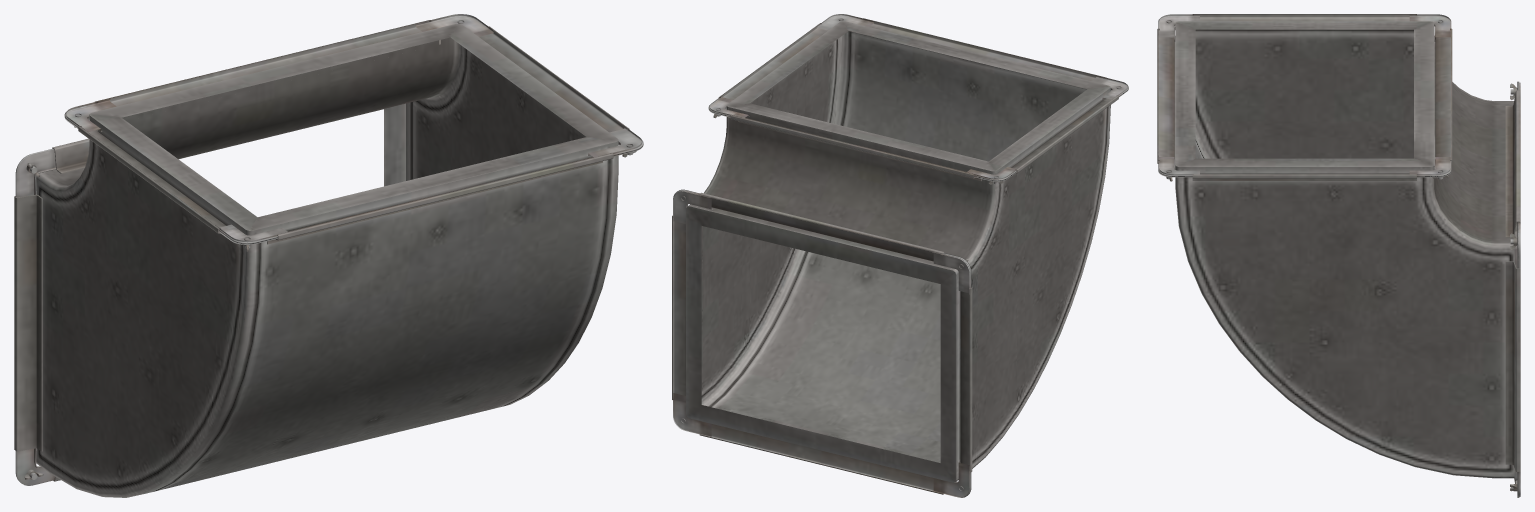
The model's file is bend_01.gltf.
The picture shows the model from 3 angles, left to right: view 1: azimuth 30°, elevation 25°; view 2: azimuth 150°, elevation 25°; view 3: azimuth 270°, elevation 25°; orthographic projection. The views are drawn at different scales.
Visible parts, largest first — view 1: bend_01; view 2: bend_01; view 3: bend_01.
Part boxes in pixels (left/top/right/bottom): bend_01: left=14, top=14, right=643, bottom=497; bend_01: left=672, top=14, right=1128, bottom=497; bend_01: left=1157, top=14, right=1520, bottom=497.
Bounding box in the file's own units: 0.6634 × 0.6314 × 0.6314.
1 material, 1 textured.
